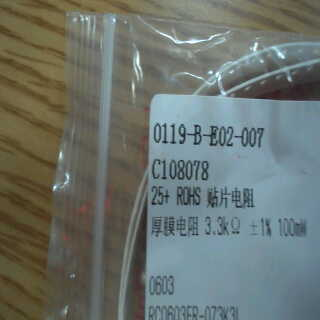3.3kO: (202, 207, 245, 243)
